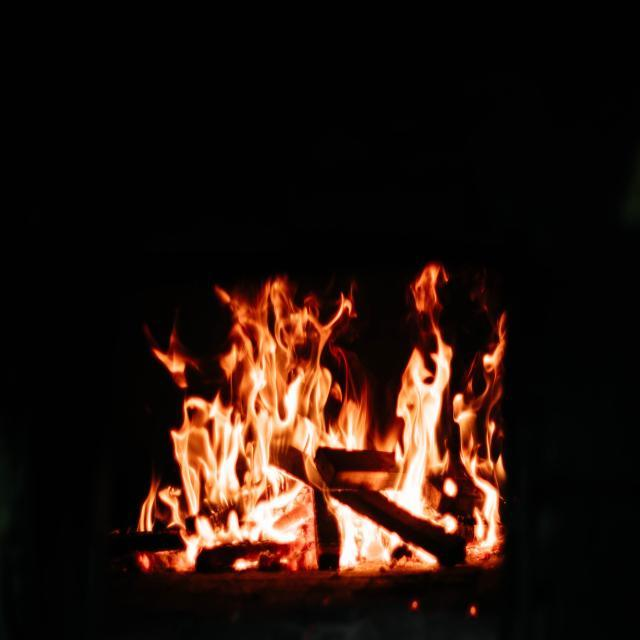Fire: (134, 263, 508, 576)
